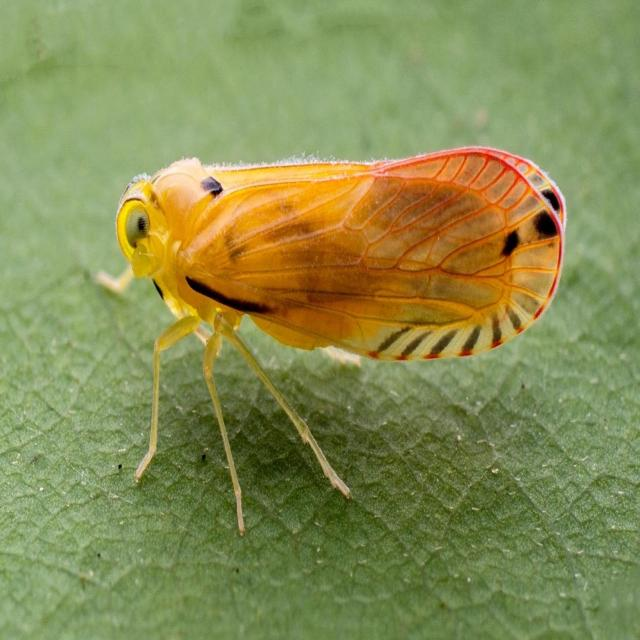Yechan: (115, 133, 572, 542)
